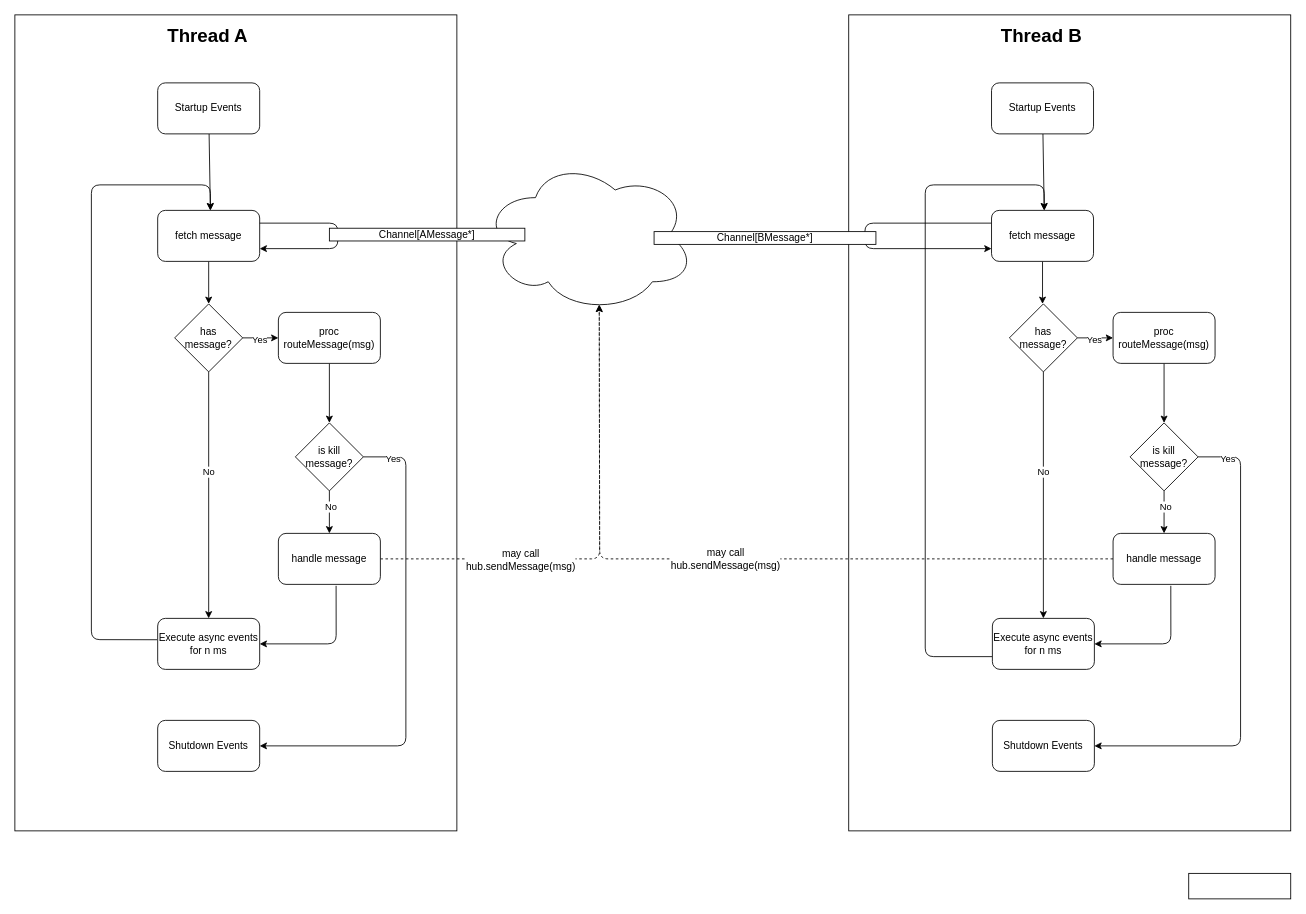
Image size: 1306x914. Some labels were removed from this diagram. Here are the shapes that lost their labels. From the top down, the box of each, then its label:
(482, 159, 695, 312): ChannelHub
(1188, 873, 1291, 899): * : Object variant
